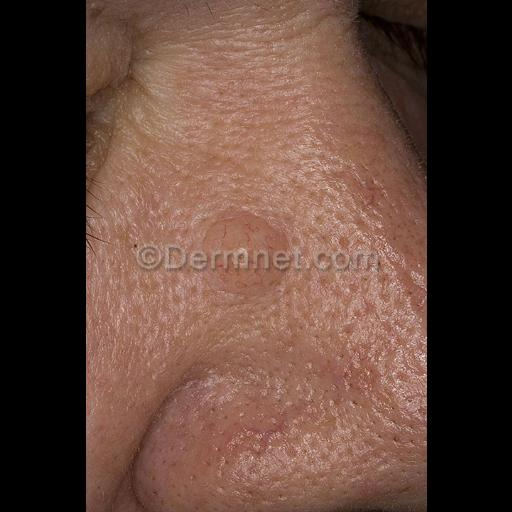Skin_Lesion: (172, 204, 296, 284), (304, 316, 398, 414), (306, 164, 402, 242), (204, 400, 276, 468), (283, 423, 357, 481)
